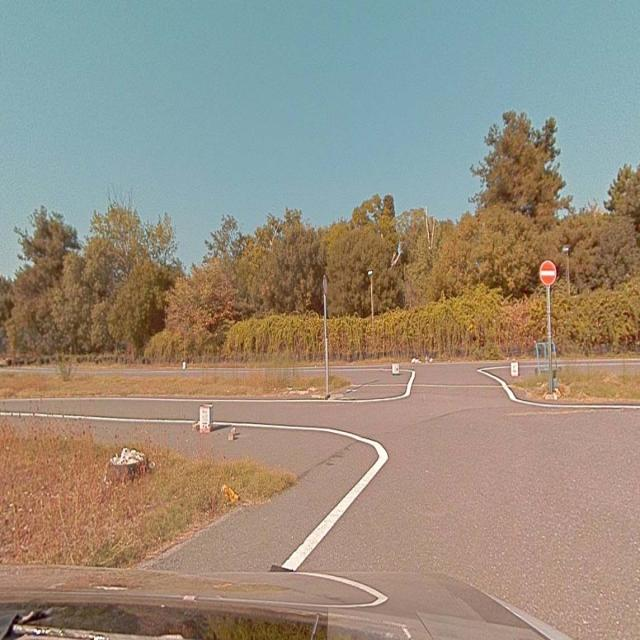girisyok: (538, 258, 556, 284)
